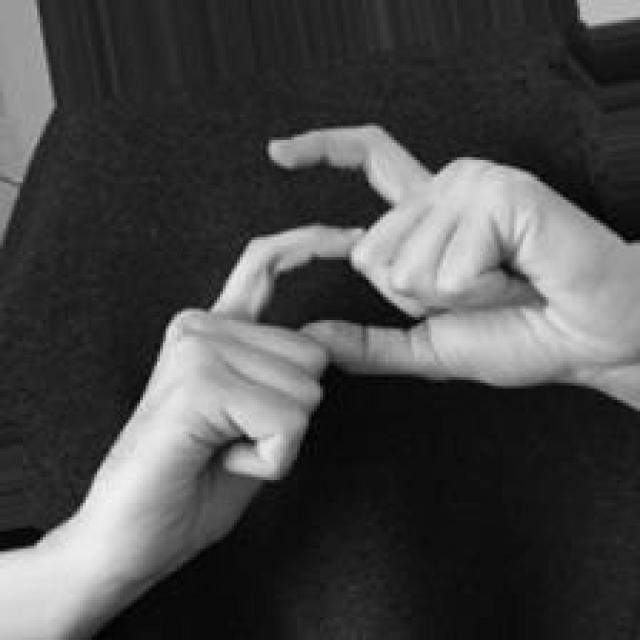G: (85, 119, 640, 596)
